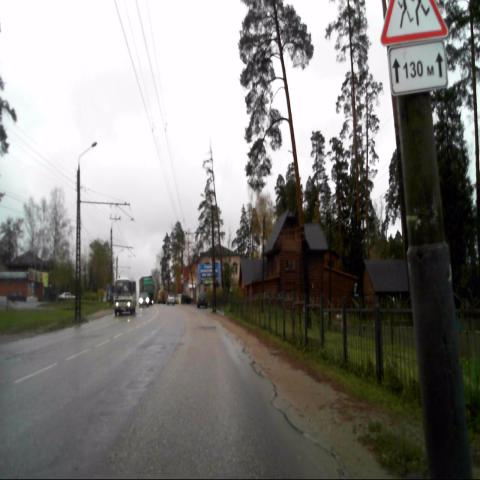8_2_1: (388, 41, 448, 96)
